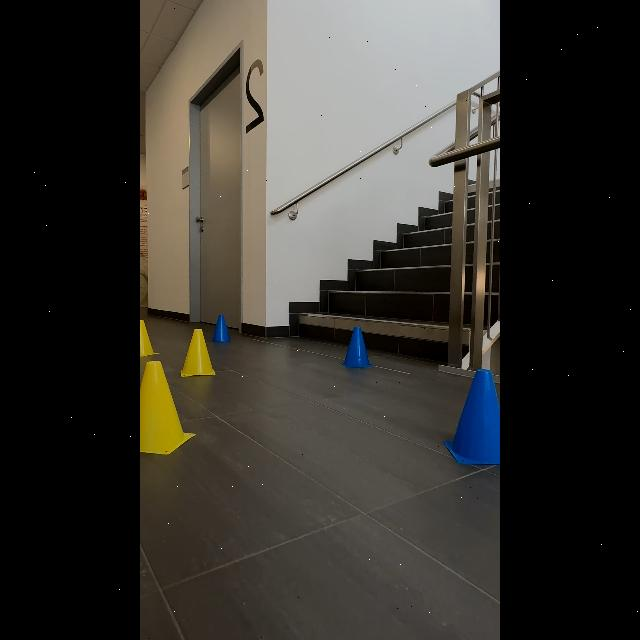blue_cone: (442, 362, 498, 472), (339, 318, 373, 378)
yellow_cone: (140, 349, 196, 456), (176, 321, 218, 382)
